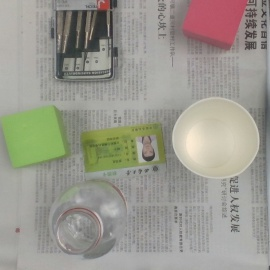bottle: (50, 180, 128, 258)
card: (172, 97, 260, 178), (81, 123, 168, 180)
